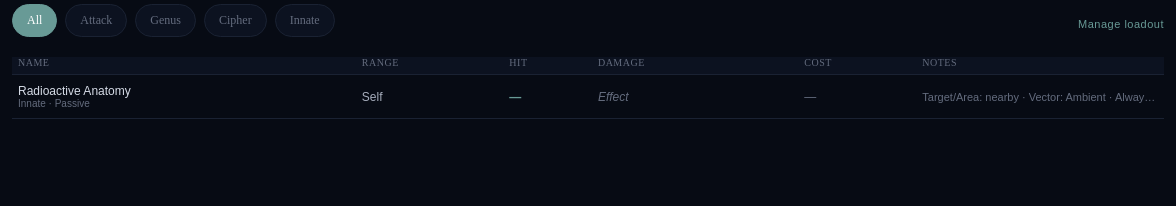
Scenario: an innate the sheet could not read, whose page names a roll anyway › says nothing at all where a page's own header declares it automatic
This screenshot has width=1176, height=206.
Click the button with class "act-row".
click(74, 91)  # box 12,75 -> 1164,118
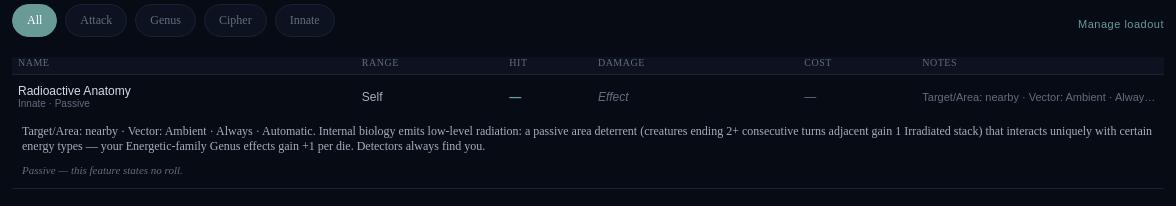
Check: the text with class "act-sub" reads "Innate · Passive", box 18,98 -> 90,109
Check: the text with class "act-passive" reads "Passive — this feature states no roll.", box 22,164 -> 183,176
